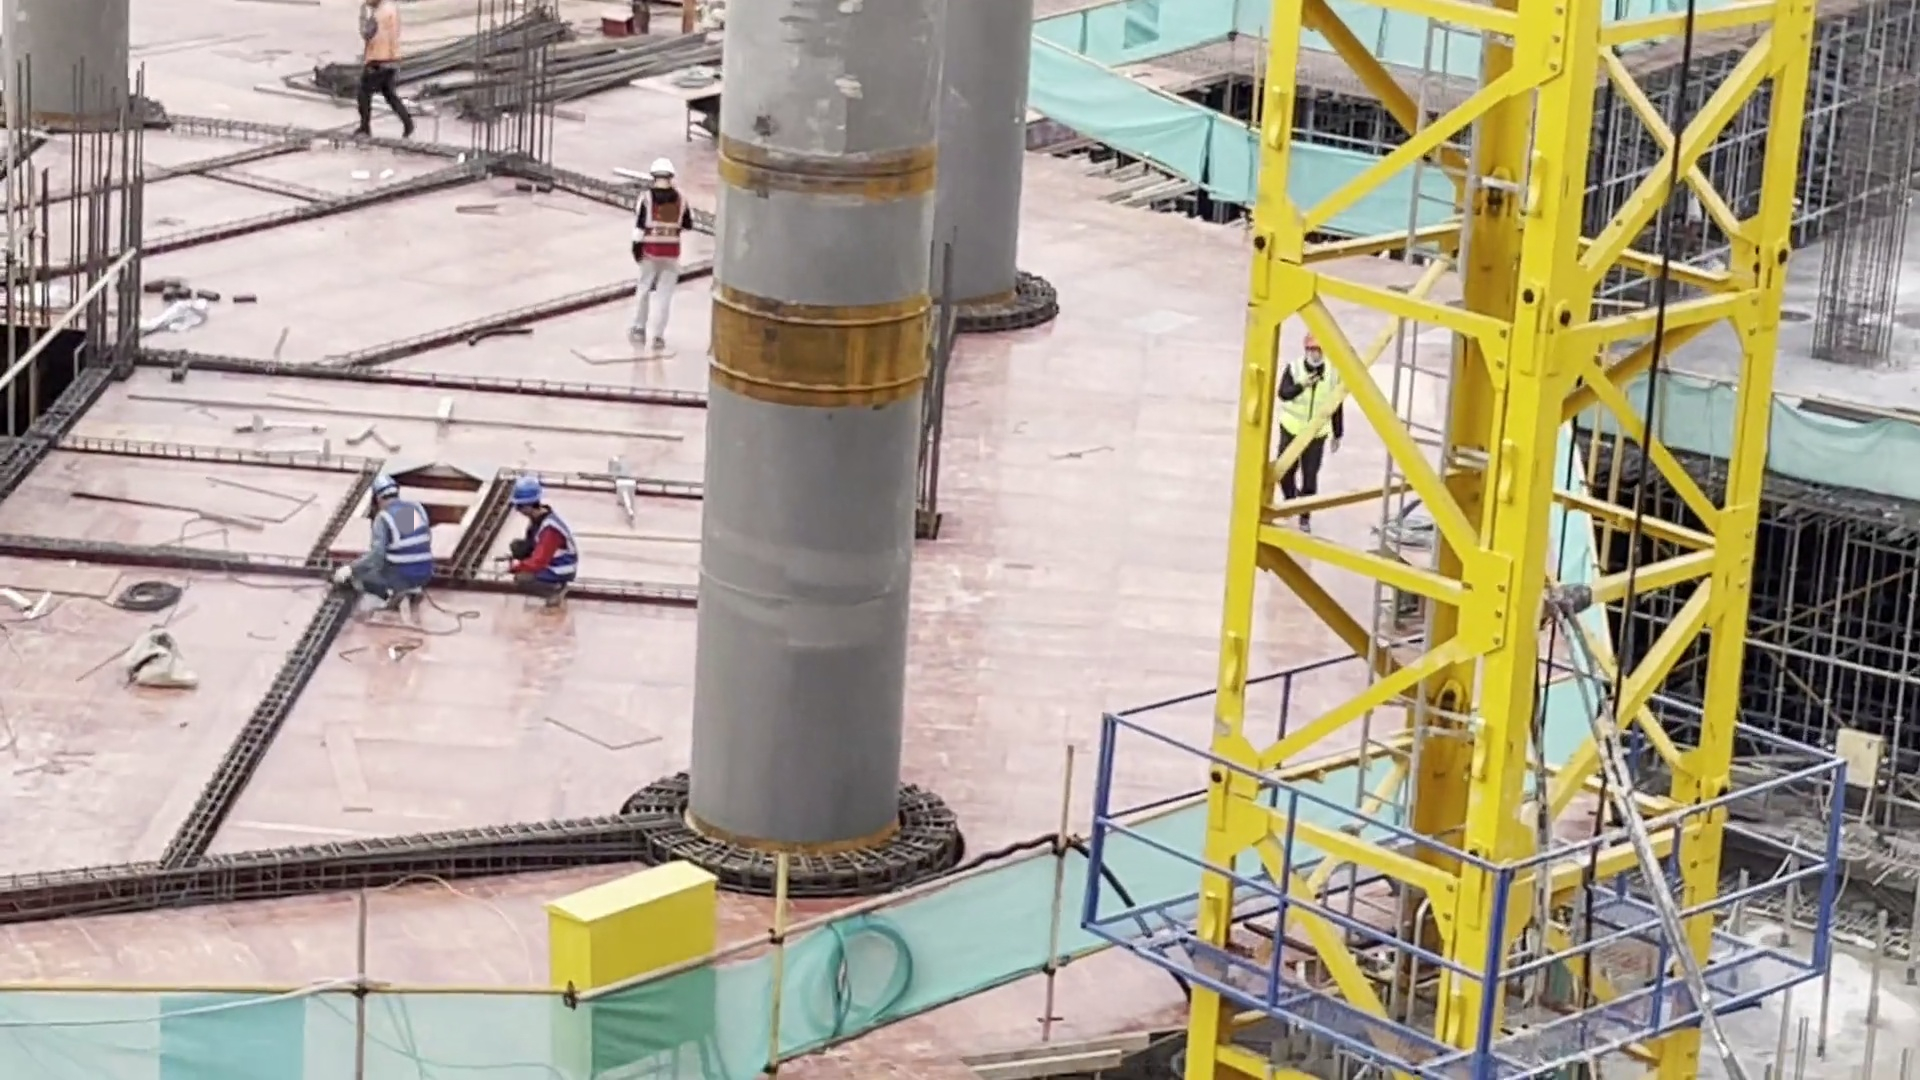ebox: (551, 859, 720, 1080)
helmet: (506, 477, 544, 505), (370, 473, 397, 495), (650, 157, 678, 176), (1302, 332, 1322, 351)
person: (335, 474, 437, 619), (620, 150, 689, 359), (1280, 328, 1344, 546), (506, 466, 578, 623), (354, 1, 426, 141)
vest: (370, 502, 437, 590), (516, 510, 580, 585), (633, 186, 685, 264), (364, 5, 410, 64)
